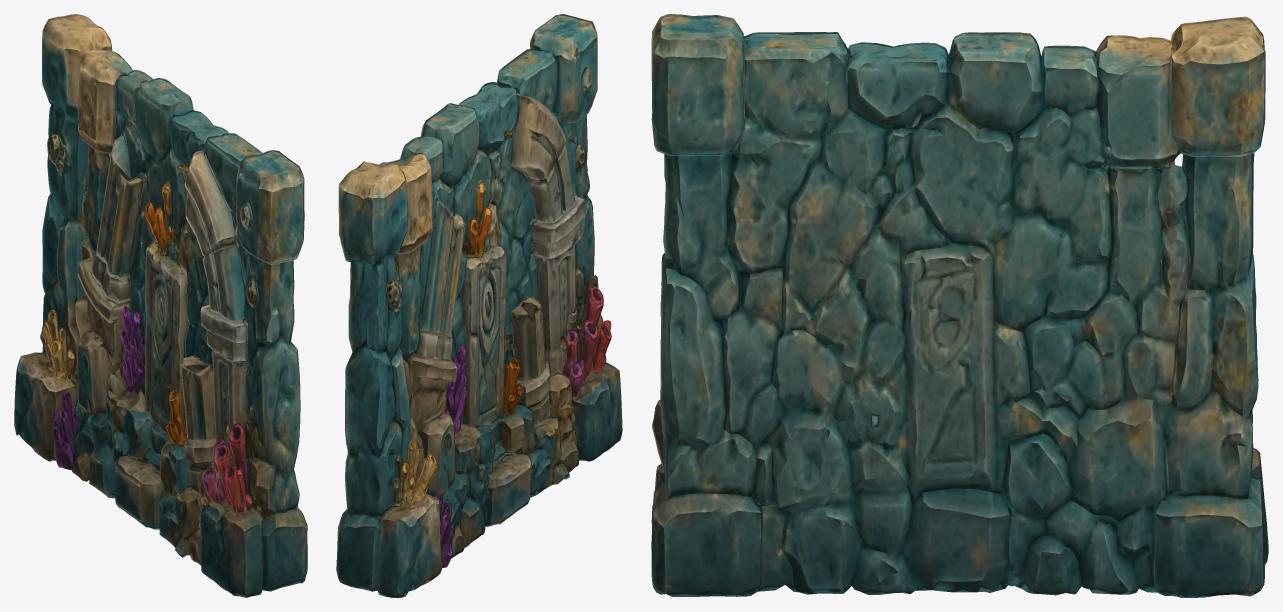
The model's file is OceanWall_ReefRuin_A_UnrealReady.glb.
The picture shows the model from 3 angles, left to right: view 1: azimuth 30°, elevation 25°; view 2: azimuth 150°, elevation 25°; view 3: azimuth 270°, elevation 25°; orthographic projection. The views are drawn at different scales.
Visible parts, largest first — view 1: OceanWall_ReefRuin_A_UnrealReady; view 2: OceanWall_ReefRuin_A_UnrealReady; view 3: OceanWall_ReefRuin_A_UnrealReady.
Boxes of the visible parts, x1,y1,x2,y2 form: OceanWall_ReefRuin_A_UnrealReady: [14, 14, 307, 597]; OceanWall_ReefRuin_A_UnrealReady: [336, 14, 622, 597]; OceanWall_ReefRuin_A_UnrealReady: [651, 14, 1268, 597].
Bounding box in the file's own units: 1.2 × 6 × 6.
1 material, 1 textured.
